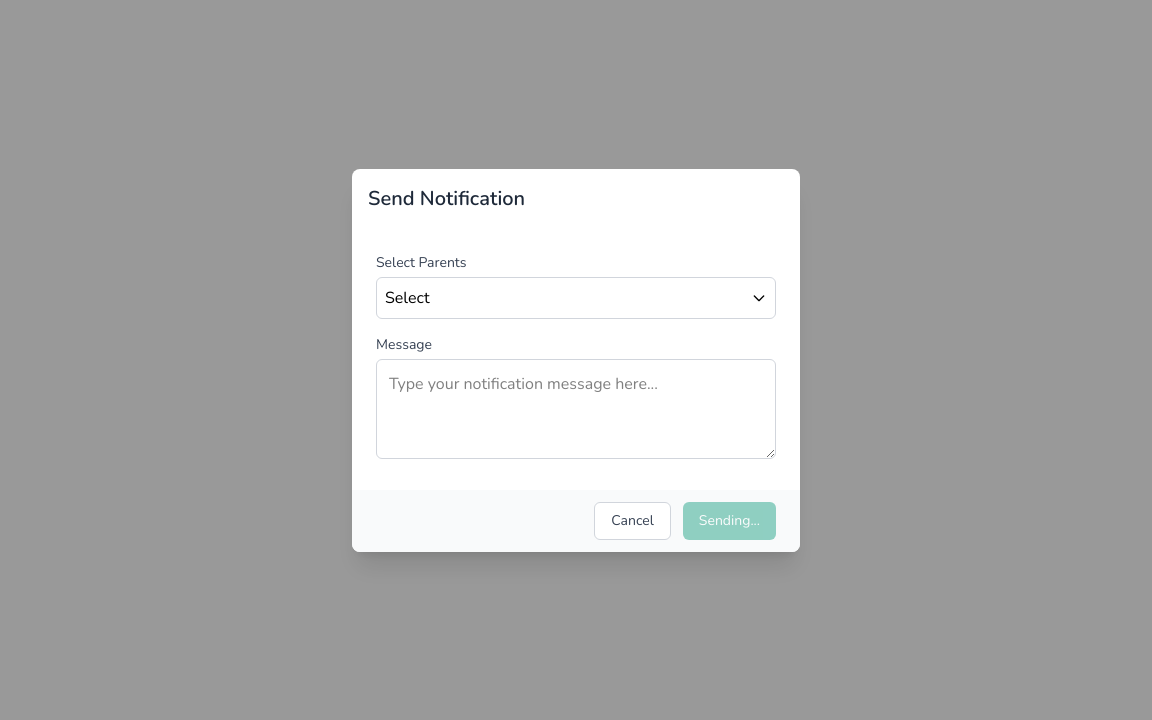
SendNotificationModal › filters parents based on search input
The width and height of the screenshot is (1152, 720).
Click the text "Select". click: {"x": 407, "y": 298}
box: [385,286,430,310]
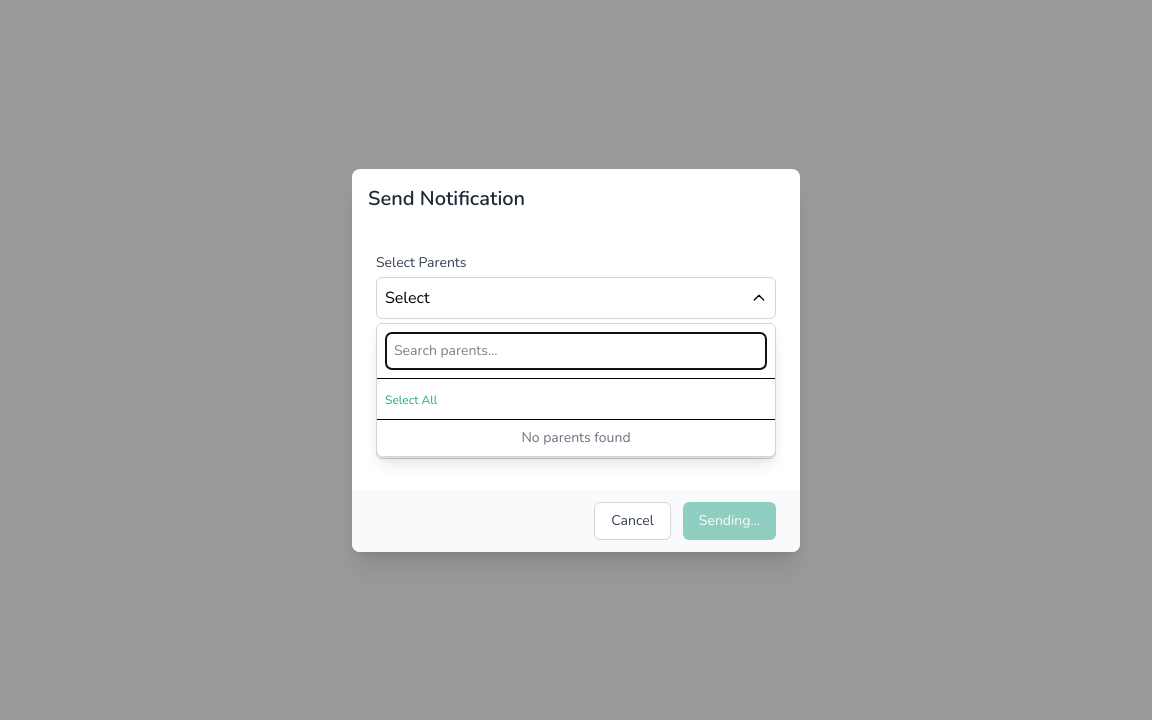
Type "Jane" into the field with placeholder "Search parents...". click: {"x": 576, "y": 350}
box: [385,332,767,370]
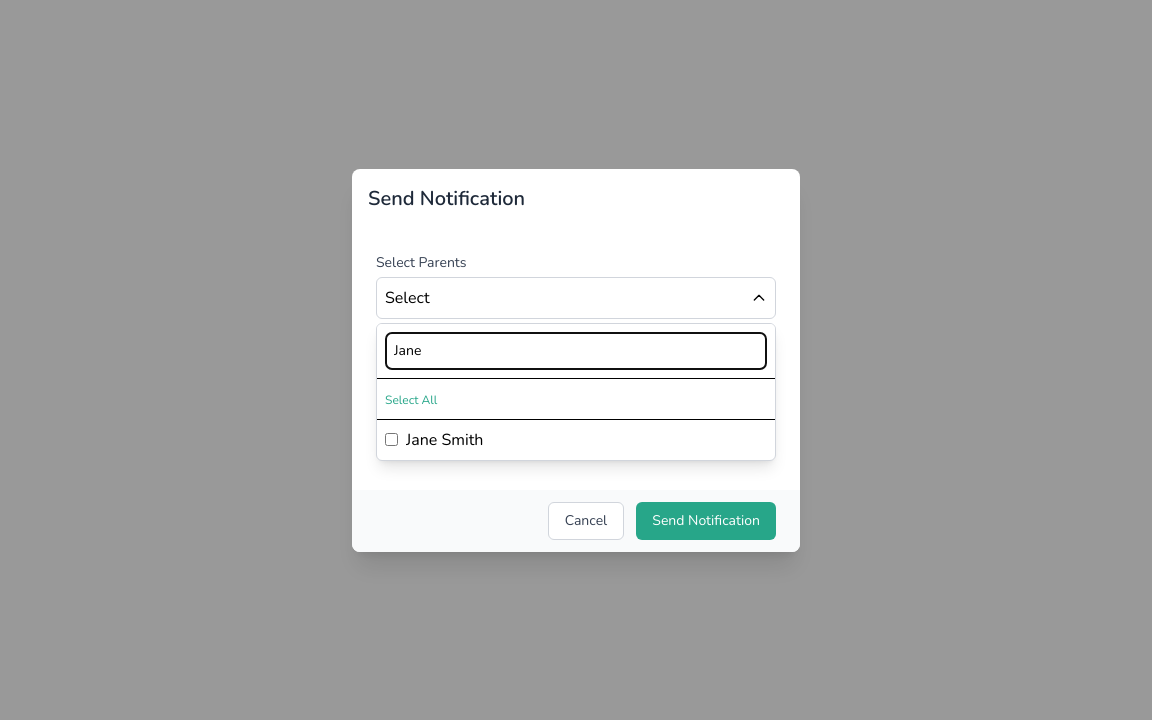
expect the text "Jane Smith" is shown: met, box [406,428,484,452]
